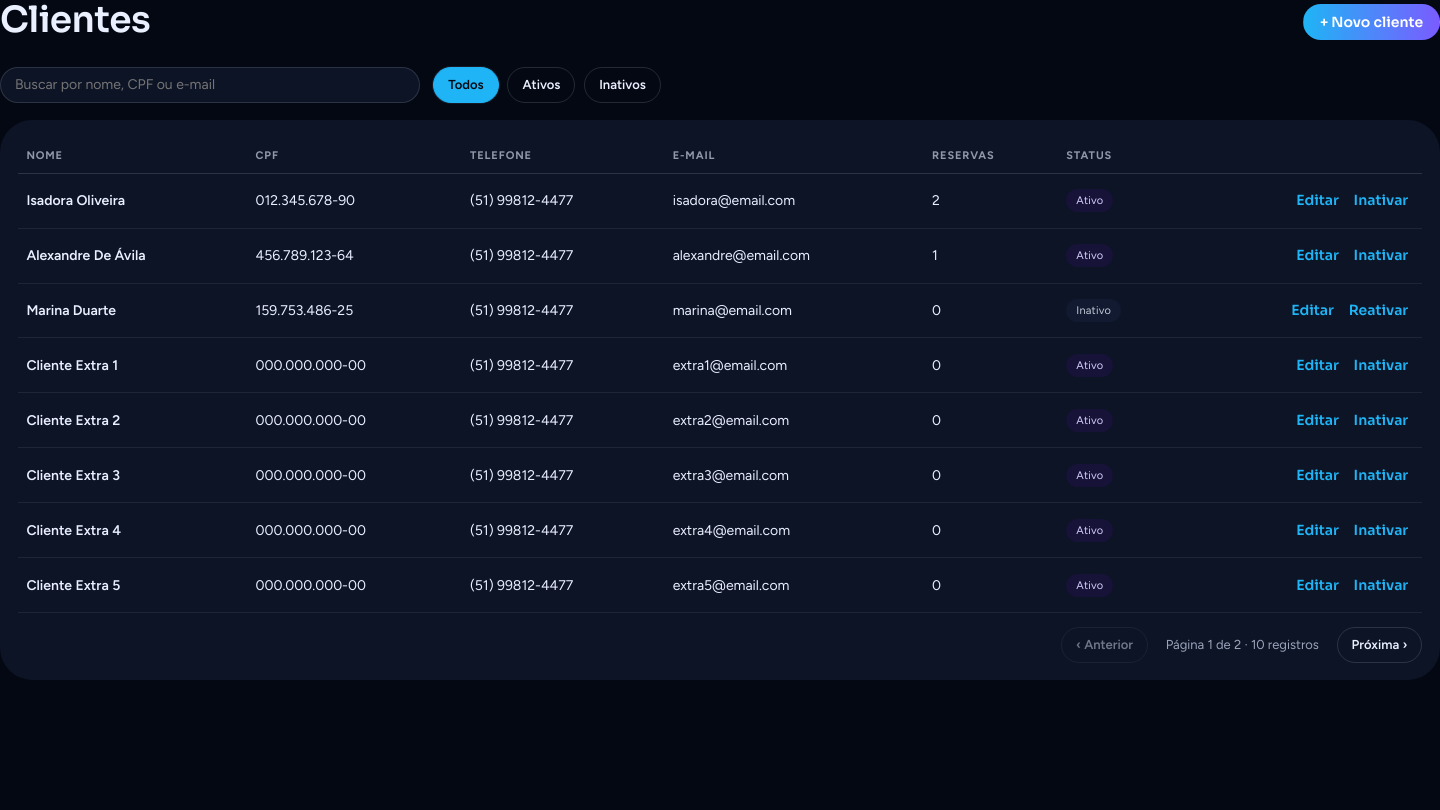
Test case: ClientesPage › edita os dados mantendo a senha atual quando o campo fica vazio (RF02)
Click the button with aria-label "Editar Isadora Oliveira": (1318, 200) [1291,182,1344,219]
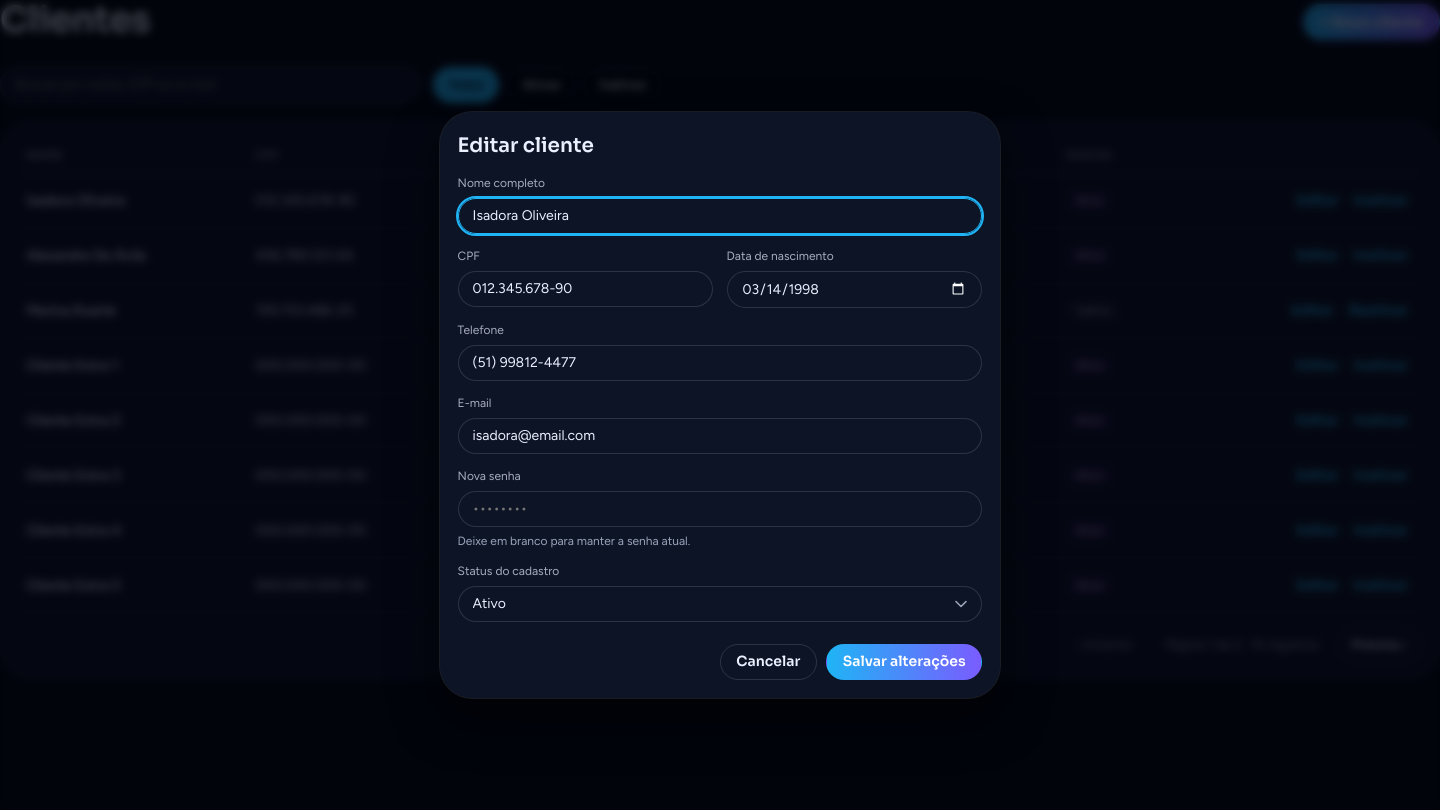
Now the field labelled "Nome completo" holds "Isadora Oliveira"
Now the dropdown labelled "Status do cadastro" shows "Ativo", box [458,586,982,622]
In the field labelled "Nome completo": (720, 216) [458,198,982,234], type "Isadora Lima"
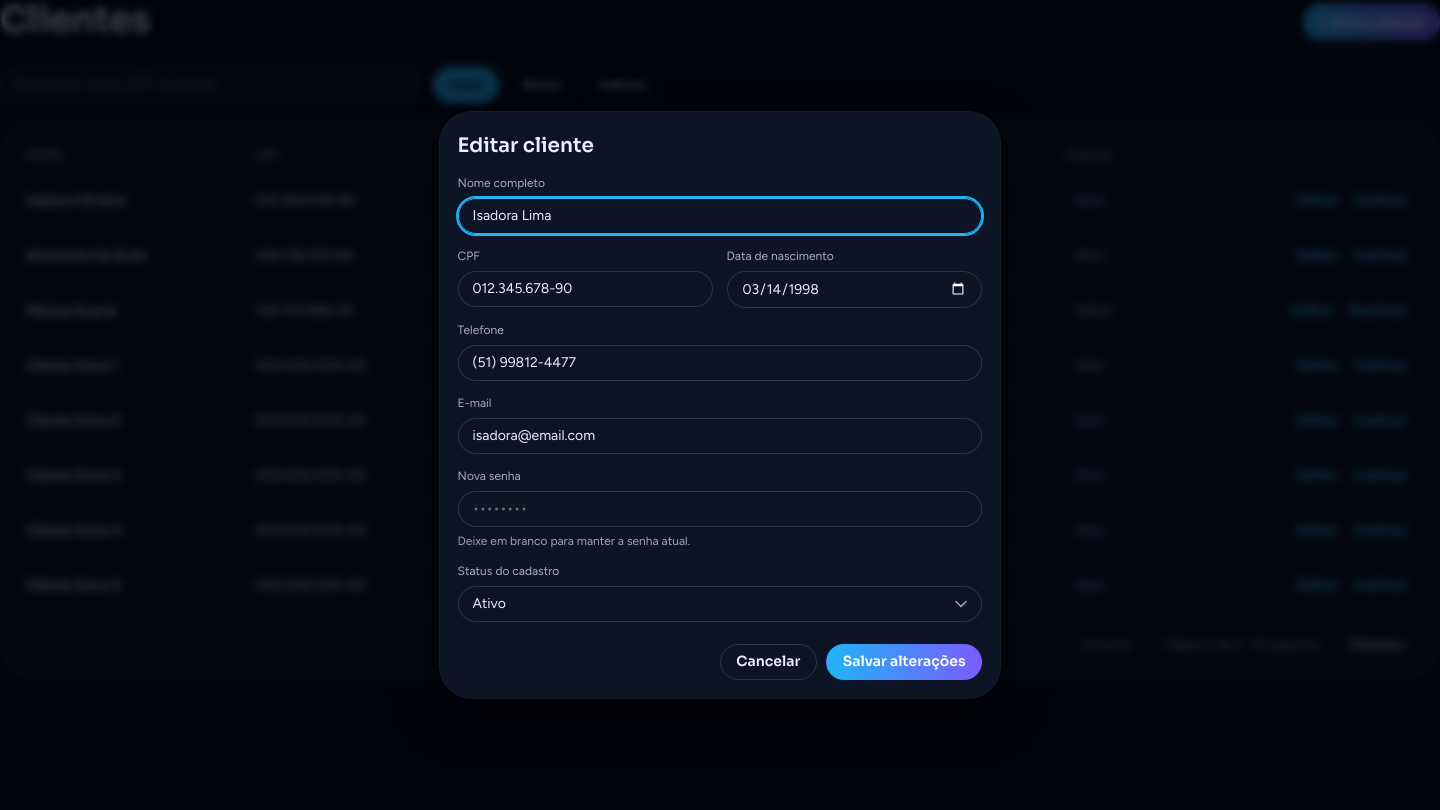
Click the button "Salvar alterações": (904, 662) [826,644,982,680]
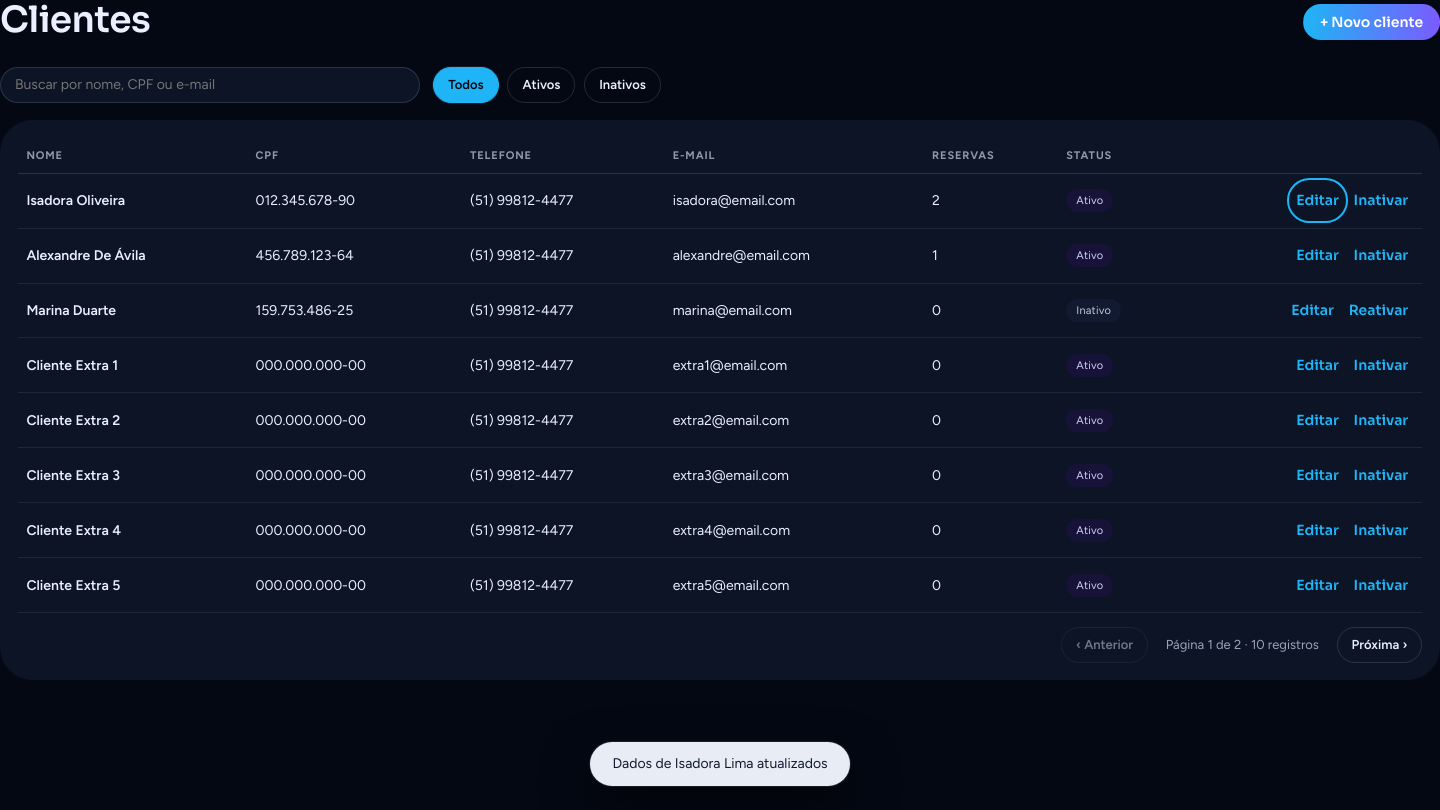
Now the text "Dados de Isadora Lima atualizados" is shown, box [590,742,850,786]
